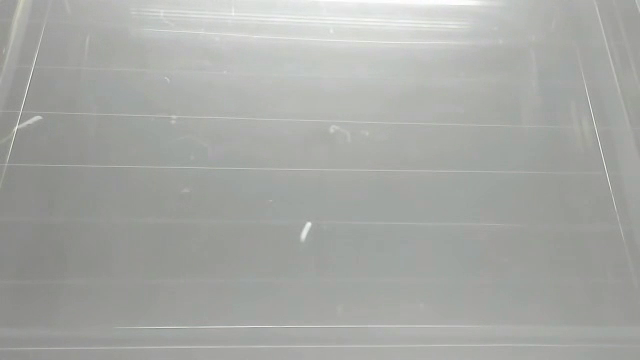alpha: (11, 110, 47, 135), (297, 219, 316, 243)
